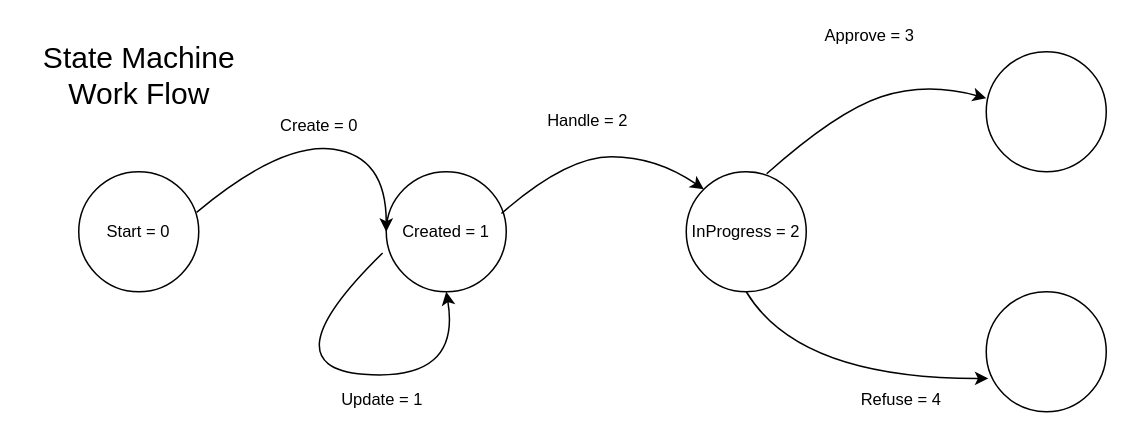
The diagram is 1133 pixels wide and 440 high, and some of its shapes have lost their labels. Each missing label, with the centre of its shape:
Approved = 3: the point at 1045,111
Refused = 4: the point at 1045,351
